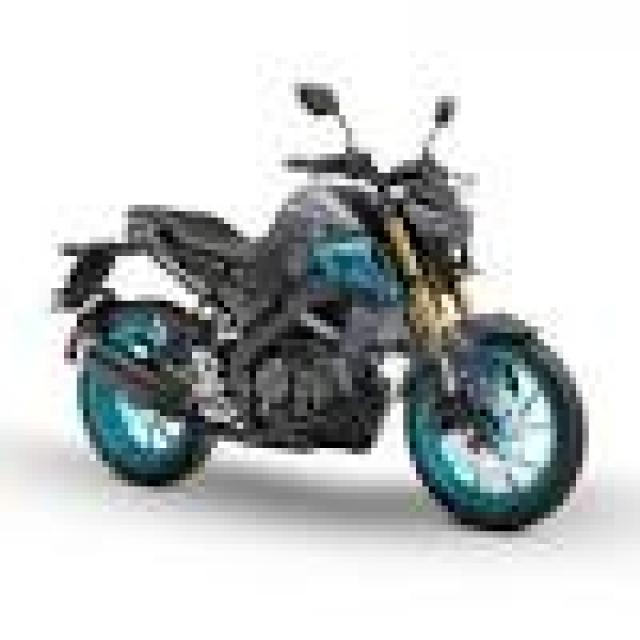bike: (51, 79, 588, 535)
